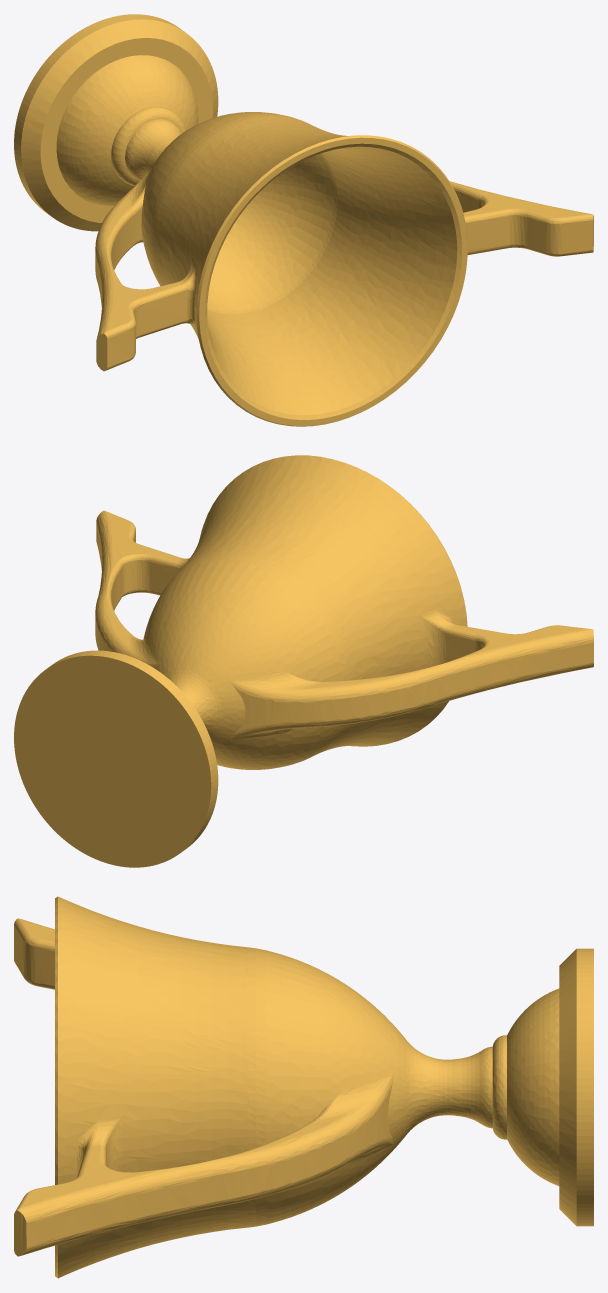
Rendered from Trophy cup.obj.
The picture shows the model from 3 angles, top to bottom: view 1: azimuth 30°, elevation 25°; view 2: azimuth 150°, elevation 25°; view 3: azimuth 270°, elevation 25°; orthographic projection. The views are drawn at different scales.
Parts seen in each view (by area): view 1: Object.1; view 2: Object.1; view 3: Object.1.
Part boxes in pixels (left/top/right/bottom): Object.1: left=14, top=14, right=593, bottom=426; Object.1: left=14, top=455, right=593, bottom=867; Object.1: left=14, top=896, right=593, bottom=1278.
Size of the model in its own units: 64.08 by 34.92 by 53.
